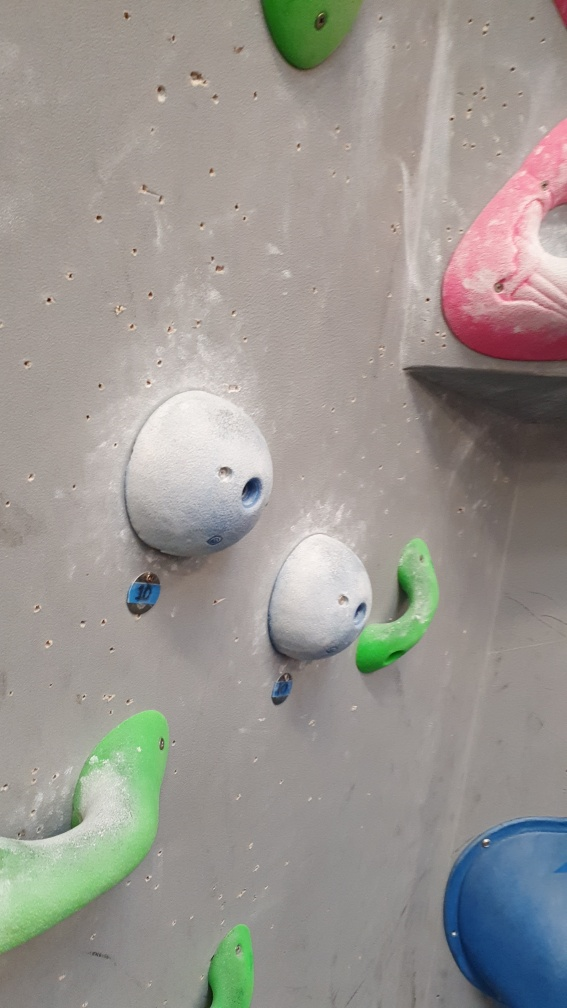Hand Start: (265, 666, 300, 714), (128, 570, 162, 619)
Pocket: (439, 118, 567, 362)
Sloper: (131, 388, 278, 564), (266, 528, 377, 663)
